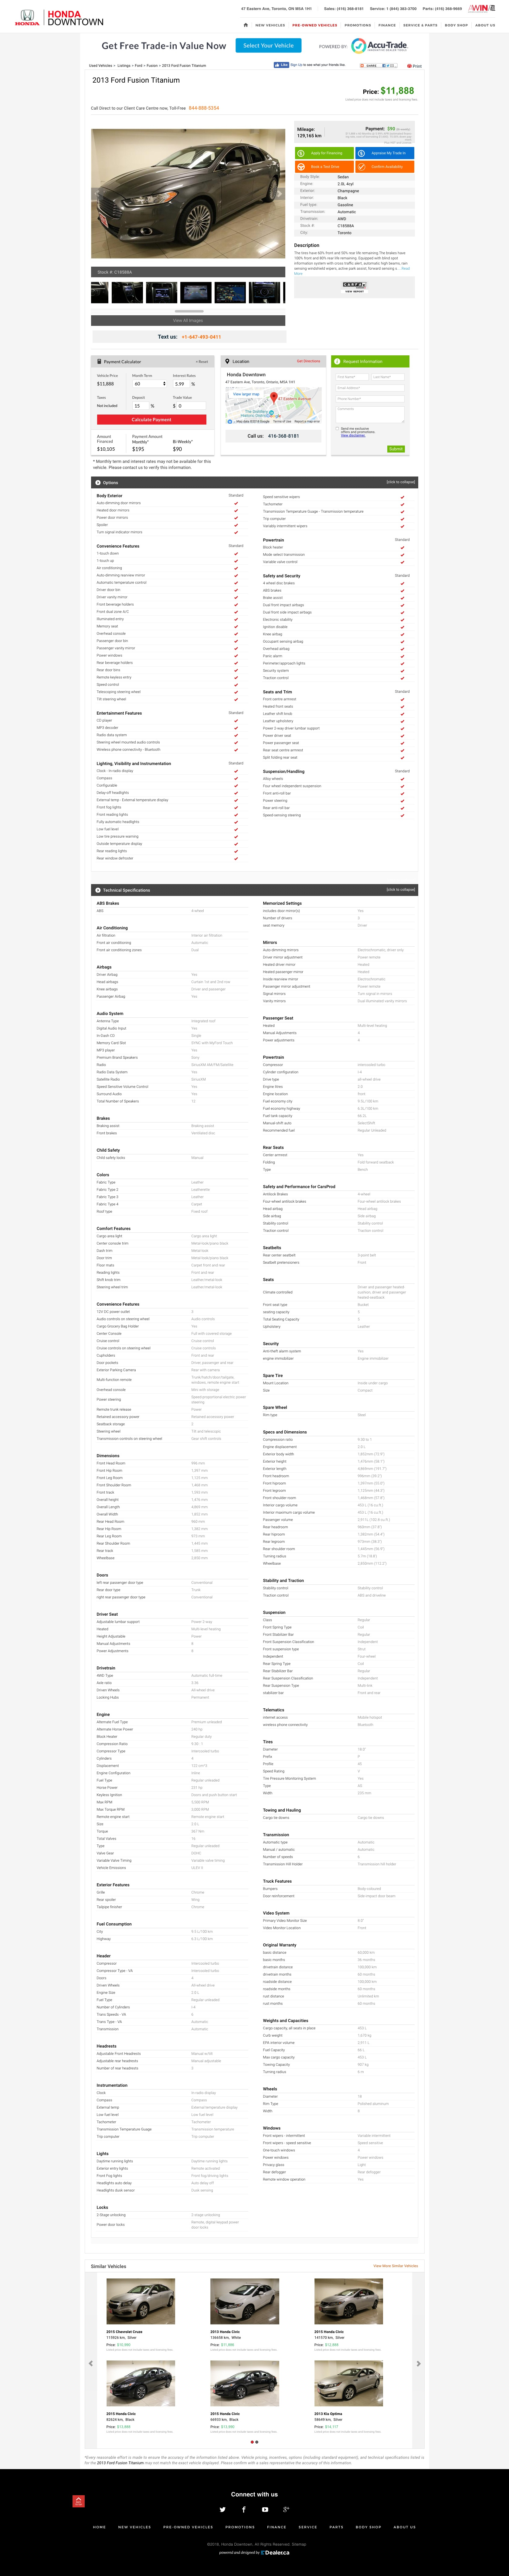car: (277, 191, 282, 199)
